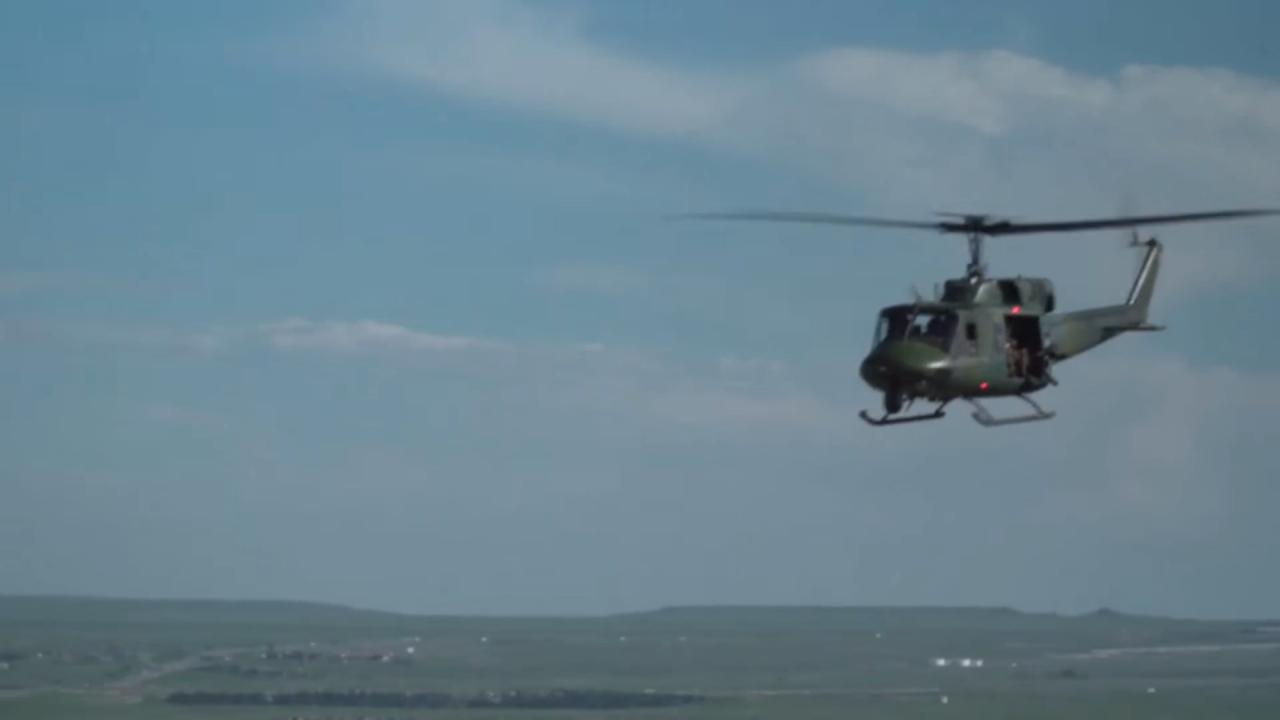Helicopter: (645, 192, 1280, 440)
